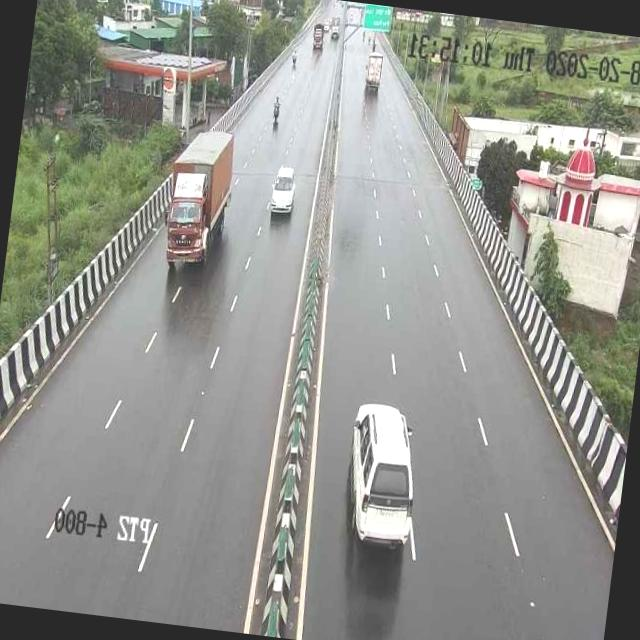car: (331, 392, 436, 562), (267, 160, 300, 222)
